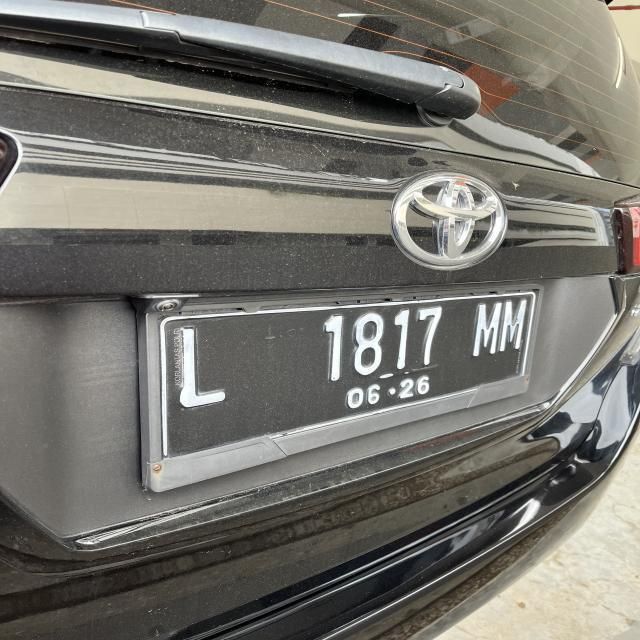1: (320, 312, 348, 384), (392, 306, 414, 369)
7: (418, 306, 444, 366)
8: (353, 314, 387, 373)
L: (165, 322, 238, 411)
M: (501, 298, 528, 354), (475, 302, 499, 358)
